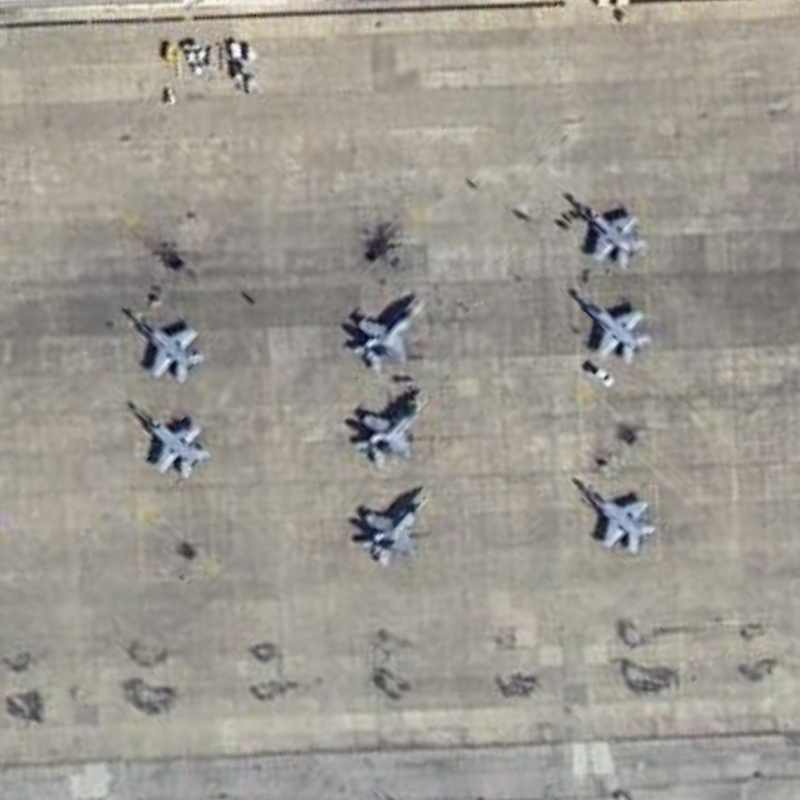A16: (120, 391, 216, 488), (117, 299, 217, 391), (562, 278, 659, 368), (561, 183, 653, 276), (342, 478, 433, 568), (337, 283, 423, 374), (344, 379, 429, 471), (573, 478, 661, 558)
